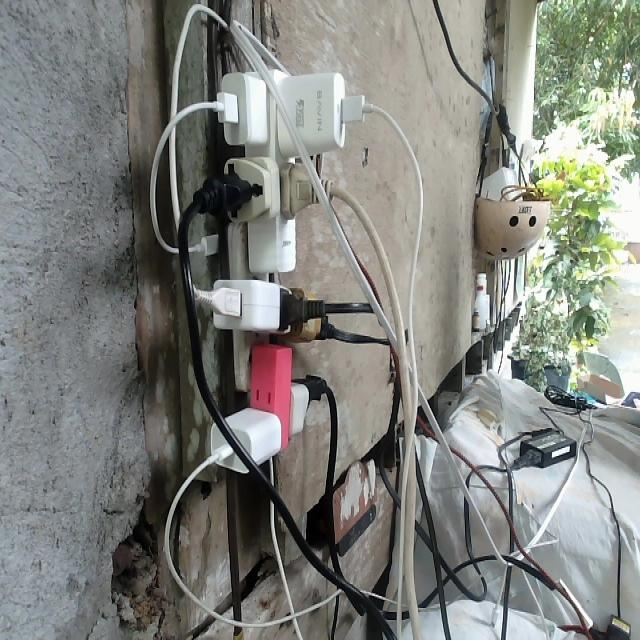-: (184, 64, 376, 473)
